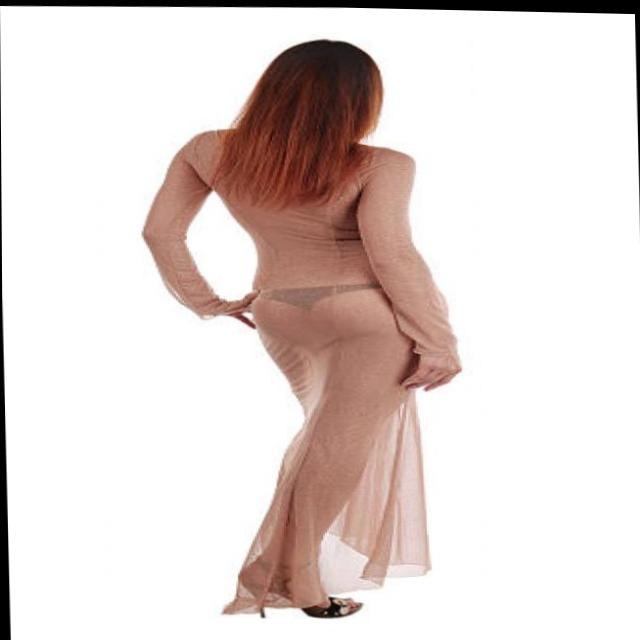no helmet: (238, 32, 385, 144)
